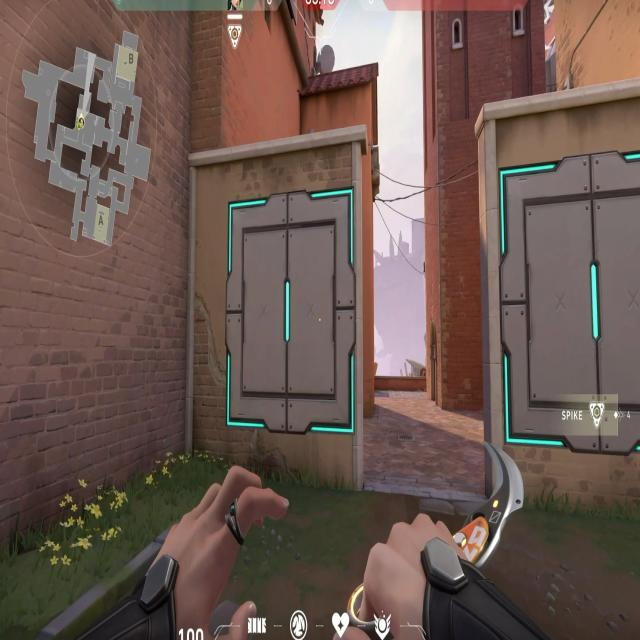Mid_Wall: (472, 89, 640, 524), (190, 150, 363, 483)
